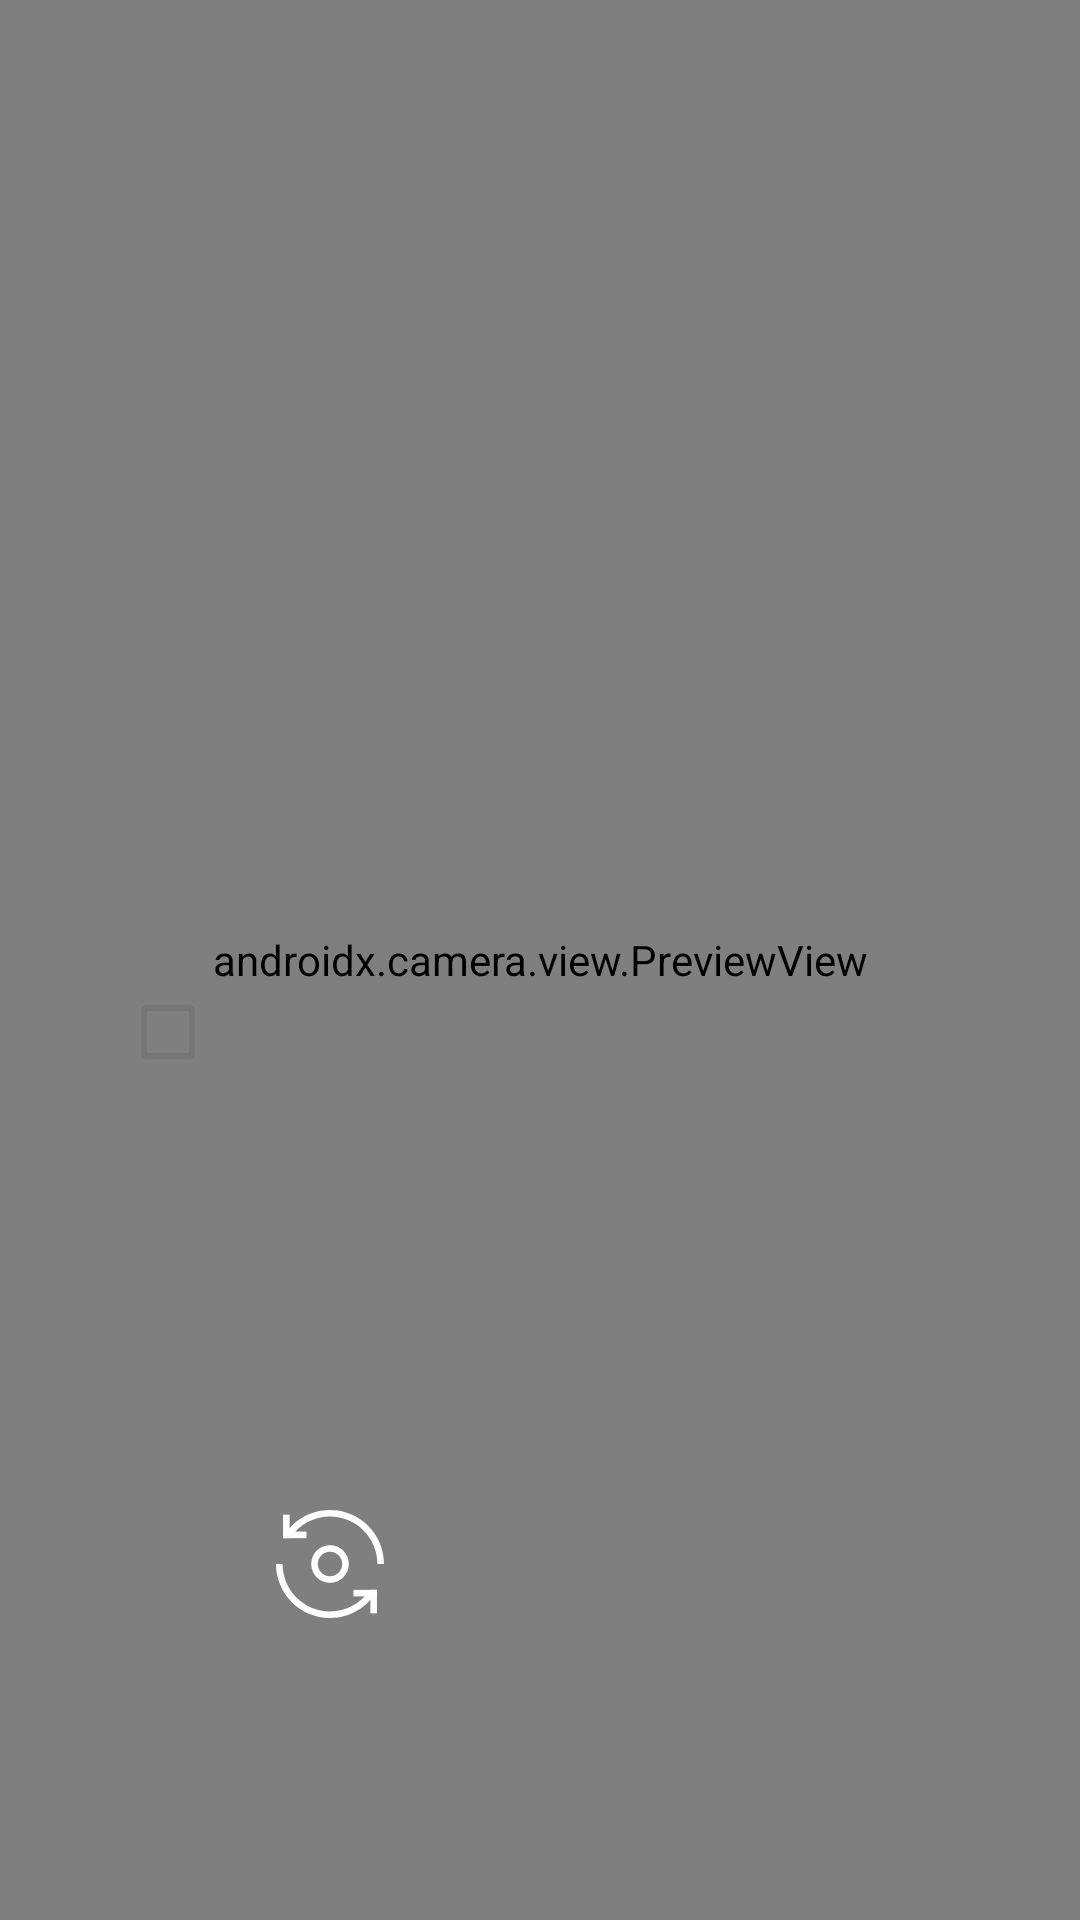

Screen size 1080px×1920px. Icon name, then its center in pixels as [x,y]:
switch: [330,1564]
